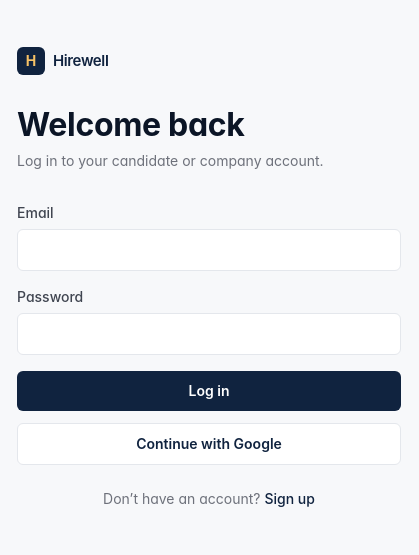
Test: LoginPage › displays the API's error message when login fails (e.g. wrong password)
This screenshot has width=419, height=555.
In the field labelled "Email": (209, 250) left=17, top=229, right=401, bottom=271, type "jane@example.com"
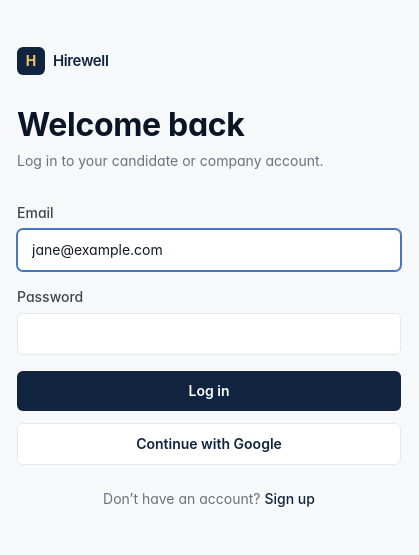
In the password field labelled "Password": (209, 334) left=17, top=313, right=401, bottom=355, type "wrong-password"
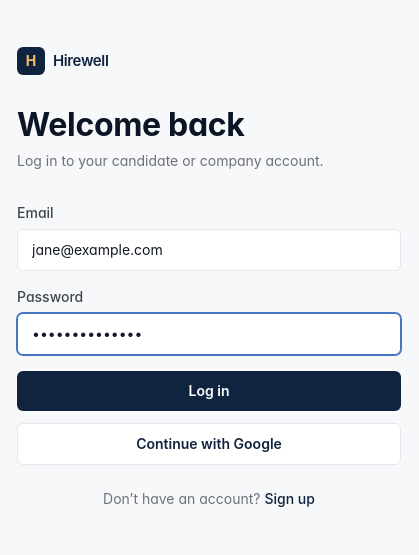
Click the button "Log in": (209, 391) left=17, top=371, right=401, bottom=411
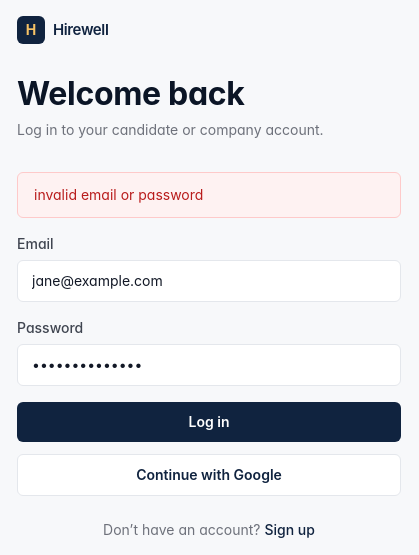
Check: the text "invalid email or password" is shown, box left=17, top=172, right=401, bottom=218
